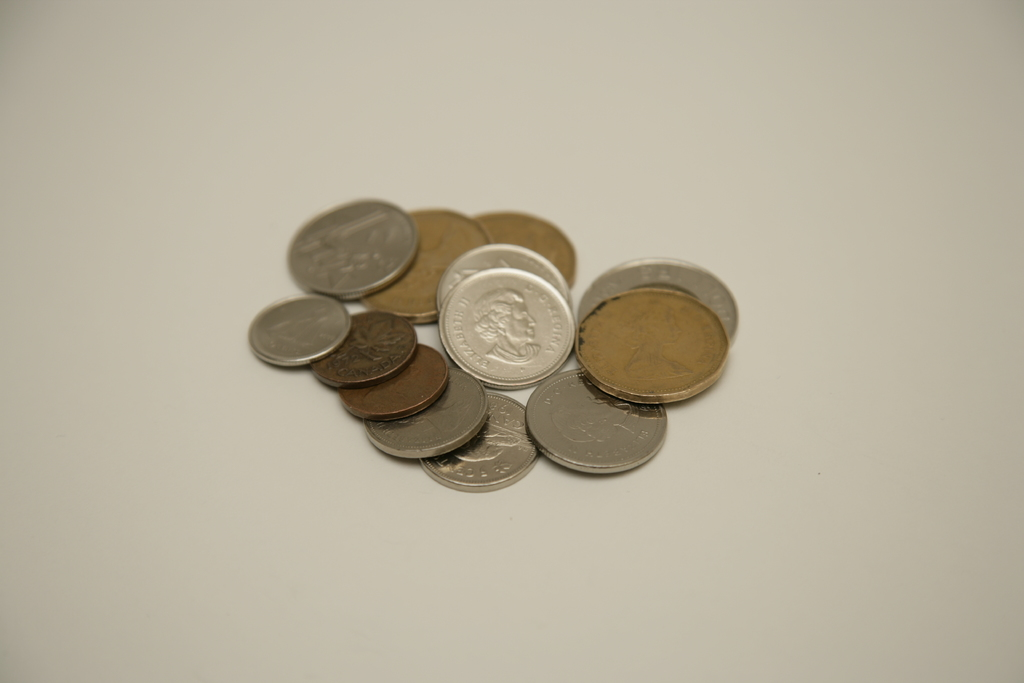Coin: (242, 192, 739, 486), (438, 263, 576, 395)
